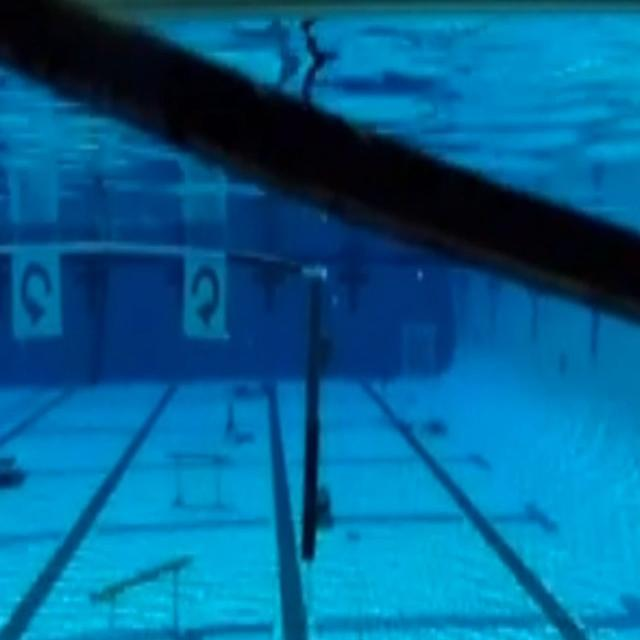Gate: (7, 238, 329, 562)
